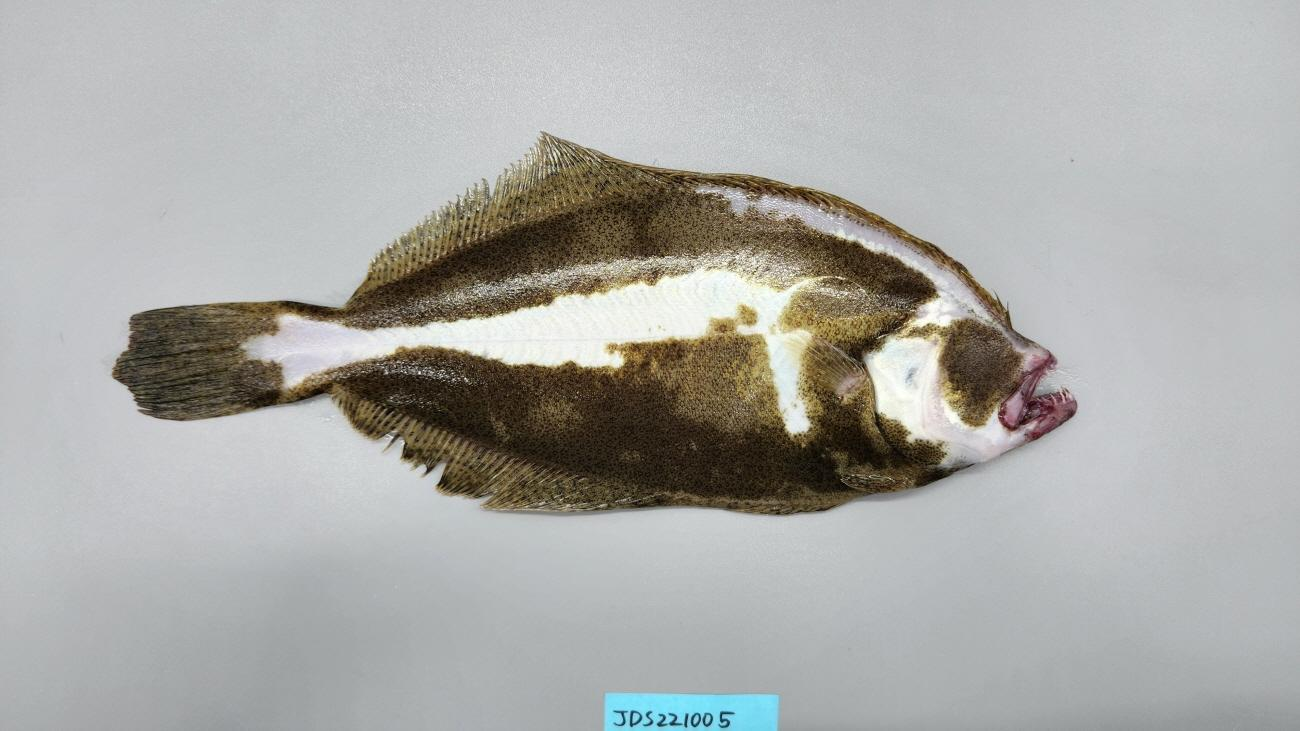VIMOU: (999, 351, 1077, 429)
VIOUY: (106, 124, 1075, 523)
